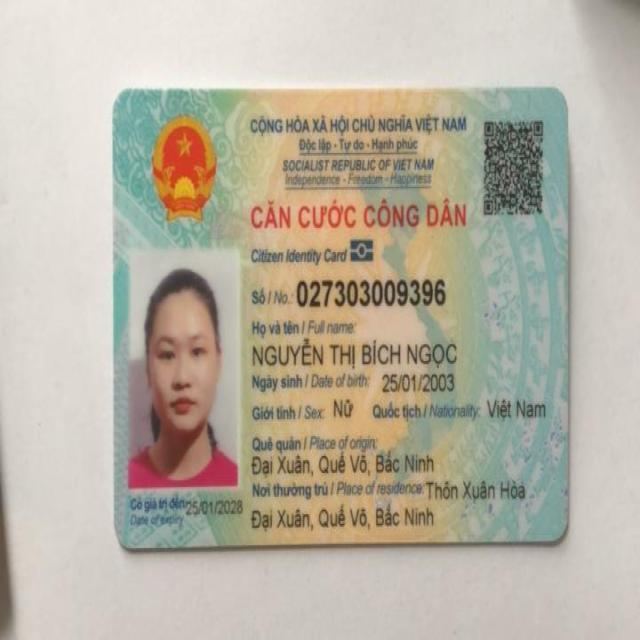bottom_left: (97, 513, 149, 566)
bottom_right: (538, 512, 579, 556)
image_person: (128, 250, 244, 486)
top_left: (98, 76, 146, 126)
top_right: (535, 76, 580, 121)
